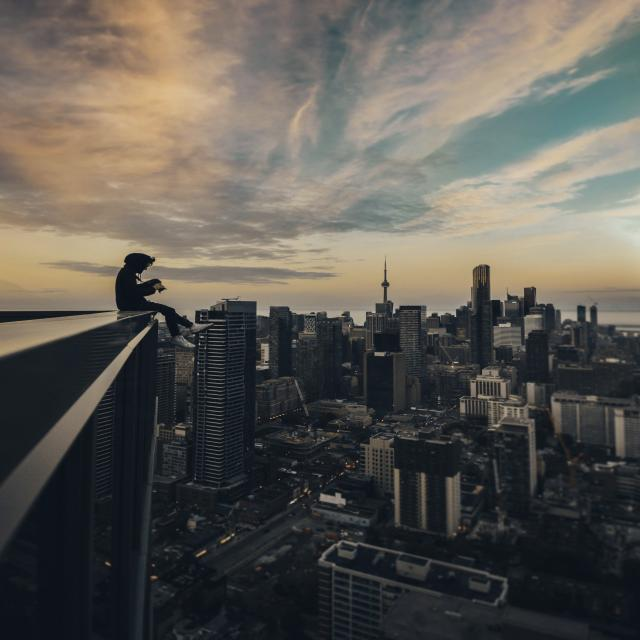adult: (114, 243, 191, 346)
